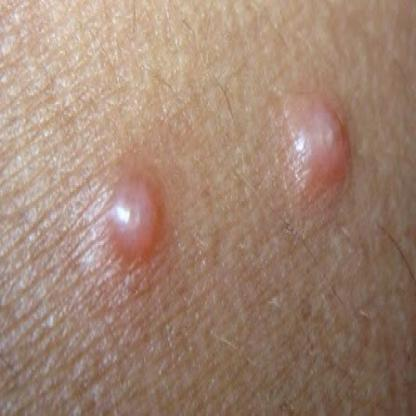Fire ant: (259, 83, 365, 211), (94, 148, 172, 284)
